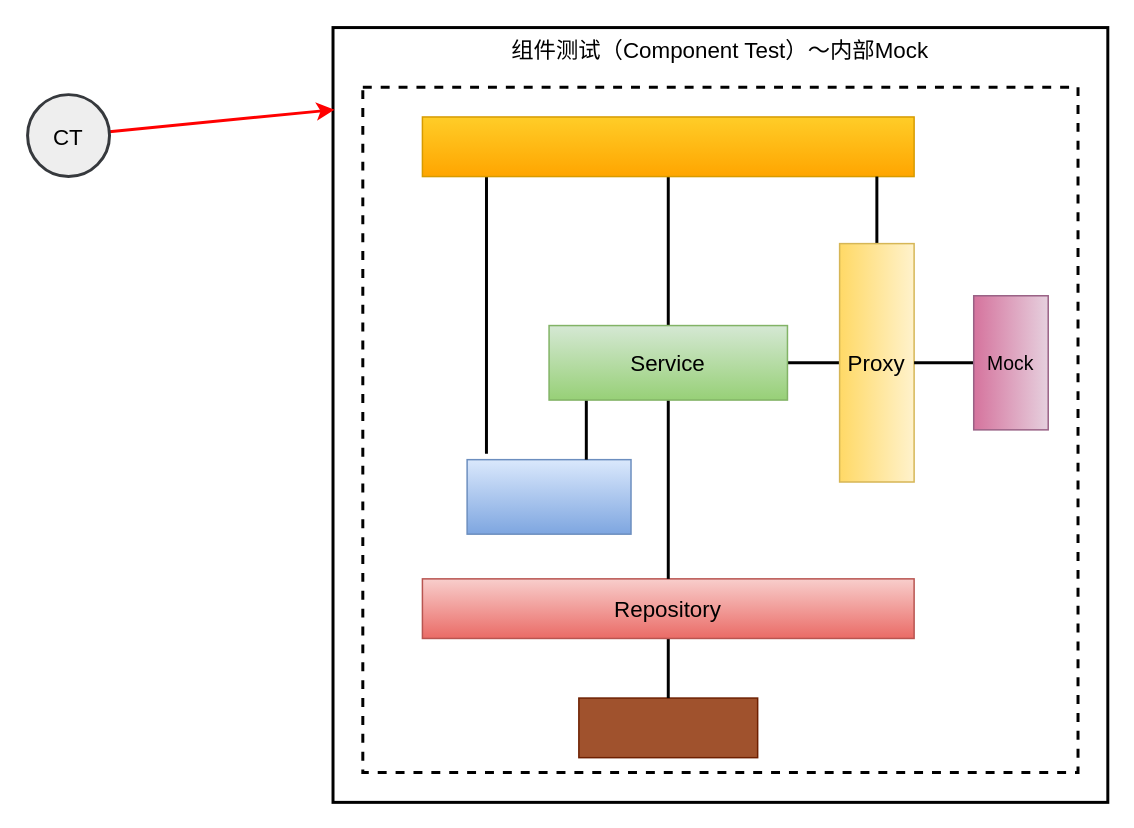
Image size: 1134x828. Some labels were removed from this diagram. Here are the shapes that lost their labels. From the top down, the centre of each, then its label:
[667,146]: Controller
[548,496]: Domain
[667,727]: In Mmory DB
